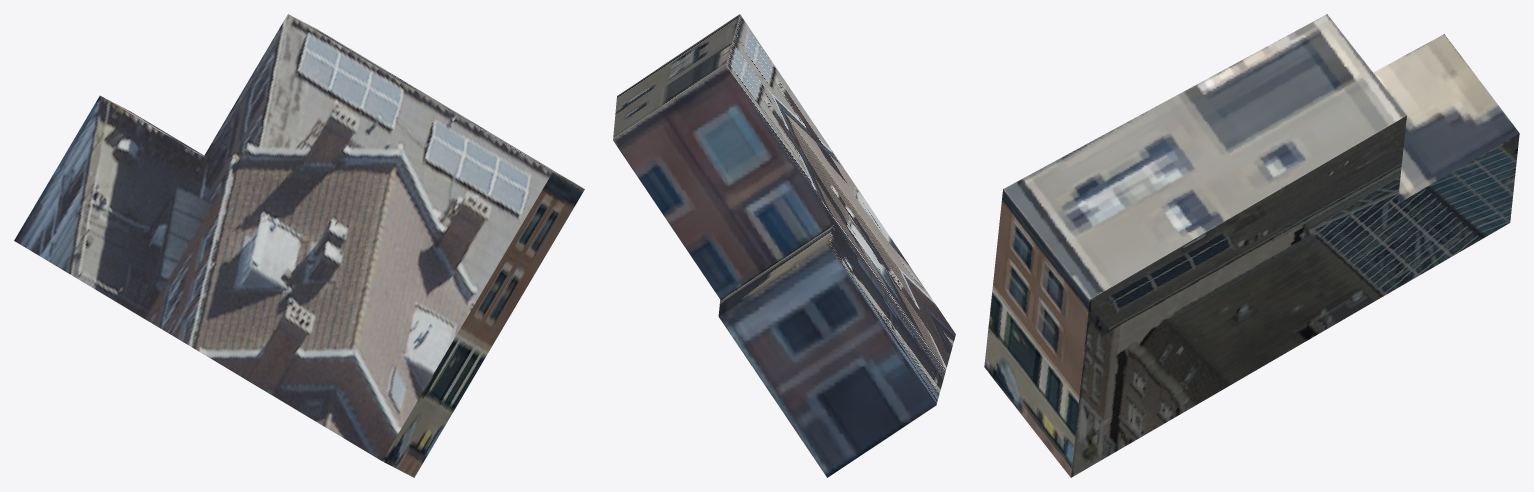
3 renders of one model, left to right at view 1: azimuth 30°, elevation 25°; view 2: azimuth 150°, elevation 25°; view 3: azimuth 270°, elevation 25°, orthographic. The views are drawn at different scales.
Visible parts, largest first — view 1: BAG_0599100000760342 (×2); view 2: BAG_0599100000760342 (×2); view 3: BAG_0599100000760342 (×2).
Boxes of the visible parts, x1=… form: BAG_0599100000760342 (×2): x1=14, y1=14, x2=584, y2=477; BAG_0599100000760342 (×2): x1=613, y1=14, x2=955, y2=477; BAG_0599100000760342 (×2): x1=984, y1=14, x2=1519, y2=477.
Bounding box in the file's own units: 20.85 × 18.25 × 19.5.
1 material, 1 textured.
